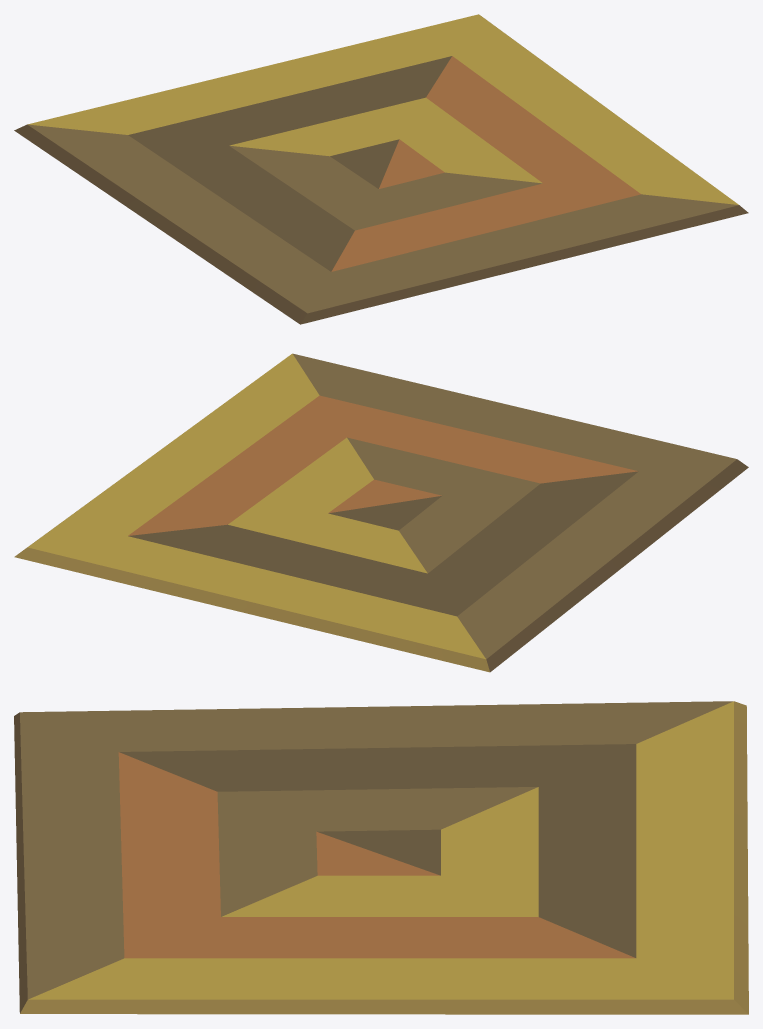
File: SqeurCarpetV3.fbx
3 renders of one model, top to bottom at view 1: azimuth 30°, elevation 25°; view 2: azimuth 150°, elevation 25°; view 3: azimuth 270°, elevation 25°, orthographic. The views are drawn at different scales.
Visible parts, largest first — view 1: SqeurCarpetV3; view 2: SqeurCarpetV3; view 3: SqeurCarpetV3.
Part boxes in pixels (left/top/right/bottom): SqeurCarpetV3: left=14, top=14, right=748, bottom=324; SqeurCarpetV3: left=14, top=353, right=748, bottom=672; SqeurCarpetV3: left=14, top=701, right=748, bottom=1014.
Size of the model in its own units: 7.46 by 0.1129 by 7.5.
Materials: 1 (1 with a texture image).
